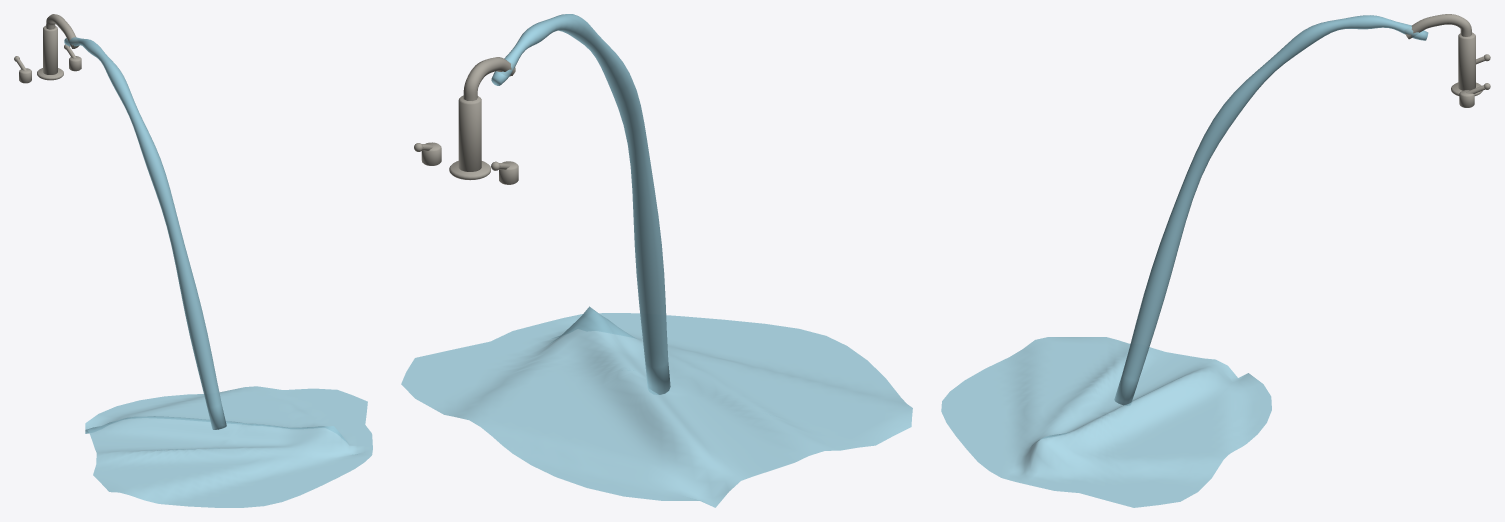
File: faucet.glb
3 views of the same model, side by side, from view 1: azimuth 30°, elevation 25°; view 2: azimuth 150°, elevation 25°; view 3: azimuth 270°, elevation 25° (orthographic). The views are drawn at different scales.
Parts seen in each view (by area): view 1: PuddleMesh, StreamMesh, Column, SpoutArc; view 2: PuddleMesh, StreamMesh, Column, SpoutArc; view 3: PuddleMesh, StreamMesh, Column, SpoutArc.
Part boxes in pixels (<box>): PuddleMesh: <box>85,386,372,507</box>; StreamMesh: <box>64,37,226,429</box>; Column: <box>43,25,57,74</box>; SpoutArc: <box>46,14,79,48</box>; PuddleMesh: <box>401,306,912,507</box>; StreamMesh: <box>491,14,670,394</box>; Column: <box>458,95,481,171</box>; SpoutArc: <box>463,57,515,100</box>; PuddleMesh: <box>941,337,1271,507</box>; StreamMesh: <box>1114,15,1428,405</box>; Column: <box>1458,32,1475,90</box>; SpoutArc: <box>1405,14,1471,39</box>.
Bounding box in the file's own units: 0.9885 × 1.1 × 1.37.
